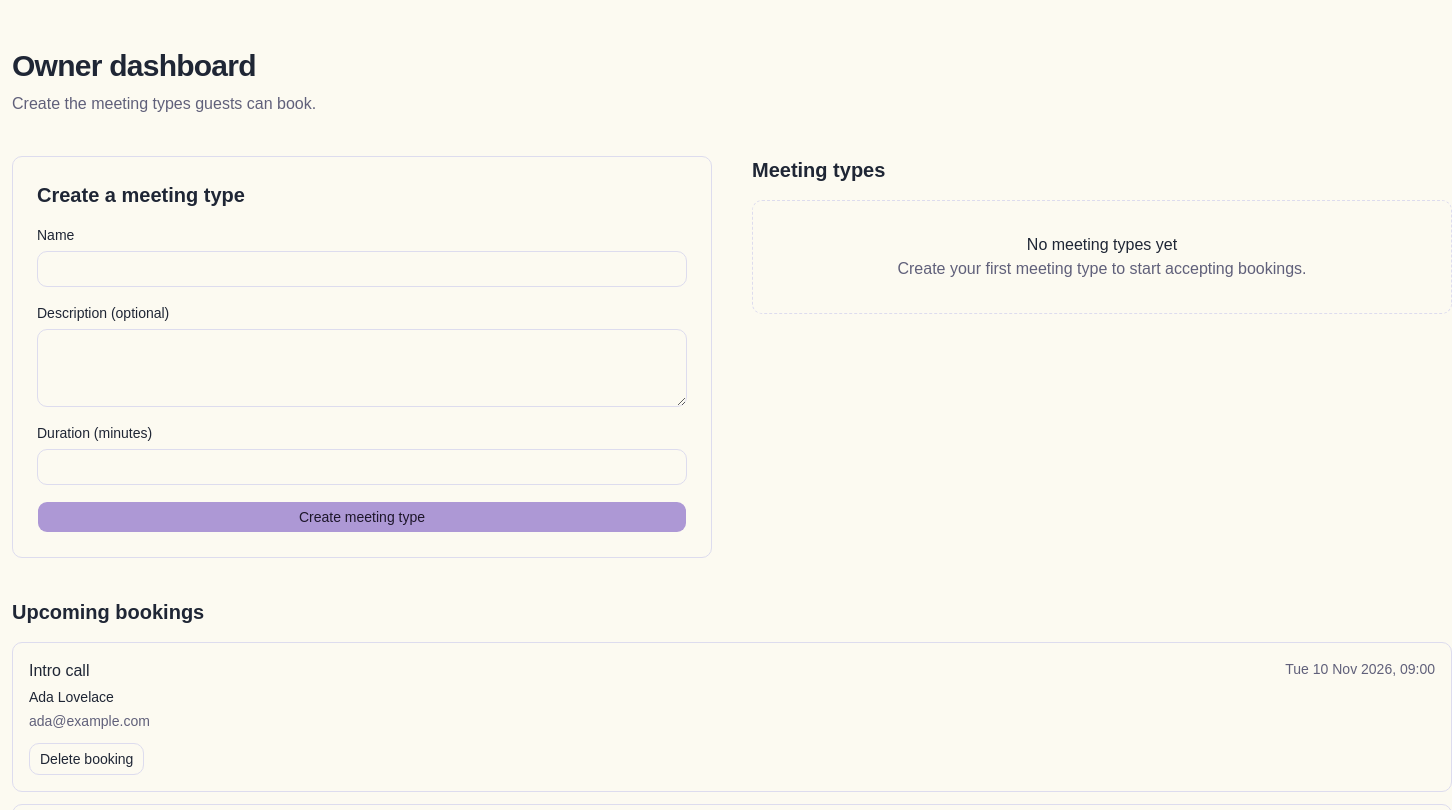
Test case: OwnerDashboardPage › deleting a booking › removes the row on 204 without refetching
The width and height of the screenshot is (1452, 810).
What coordinates should you click on to do the following:
click the button "Delete booking"
I would click on:
 (87, 759)
Its box is [29, 743, 144, 775].
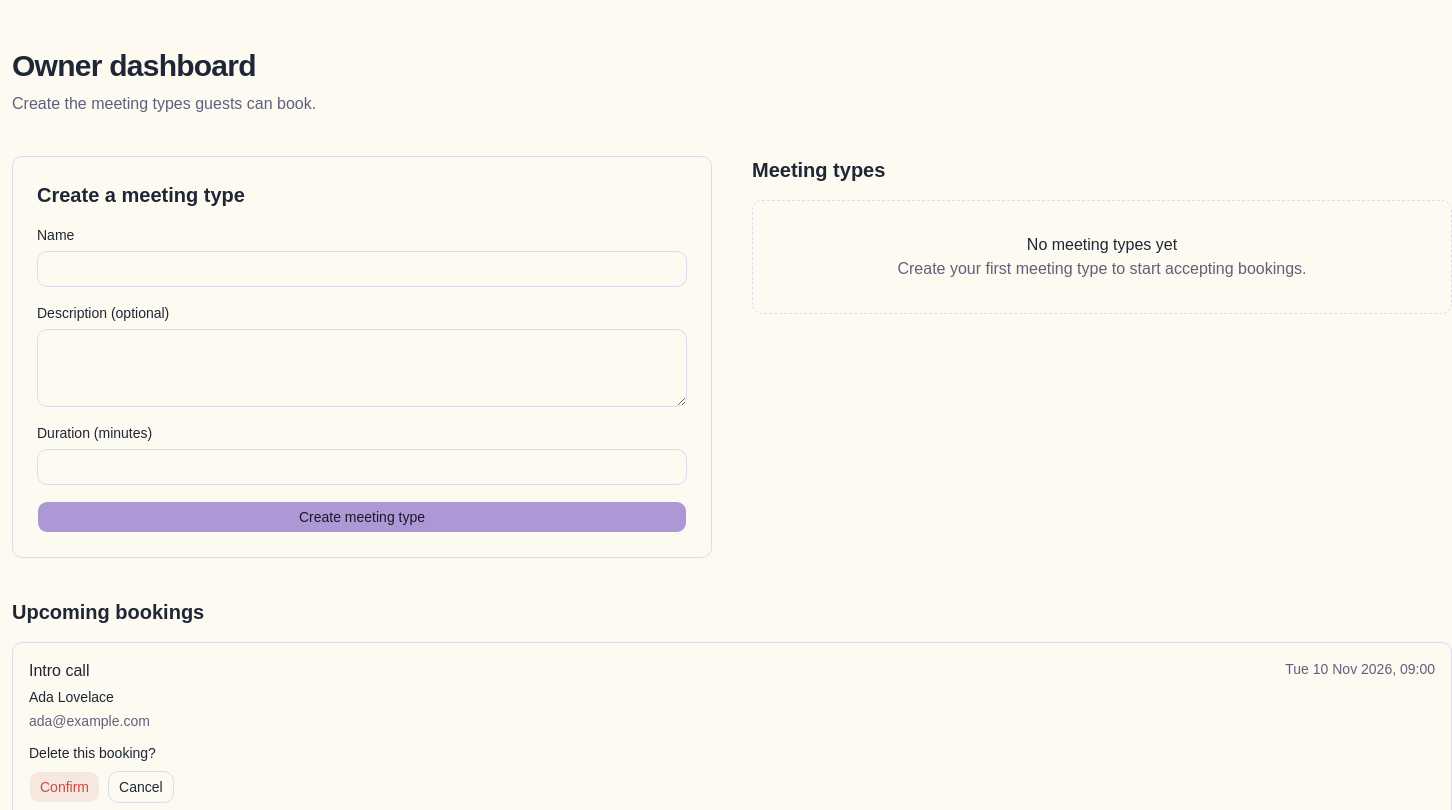
What coordinates should you click on to do the following:
click the button "Confirm"
I would click on:
 (64, 787)
Its box is [29, 771, 100, 803].
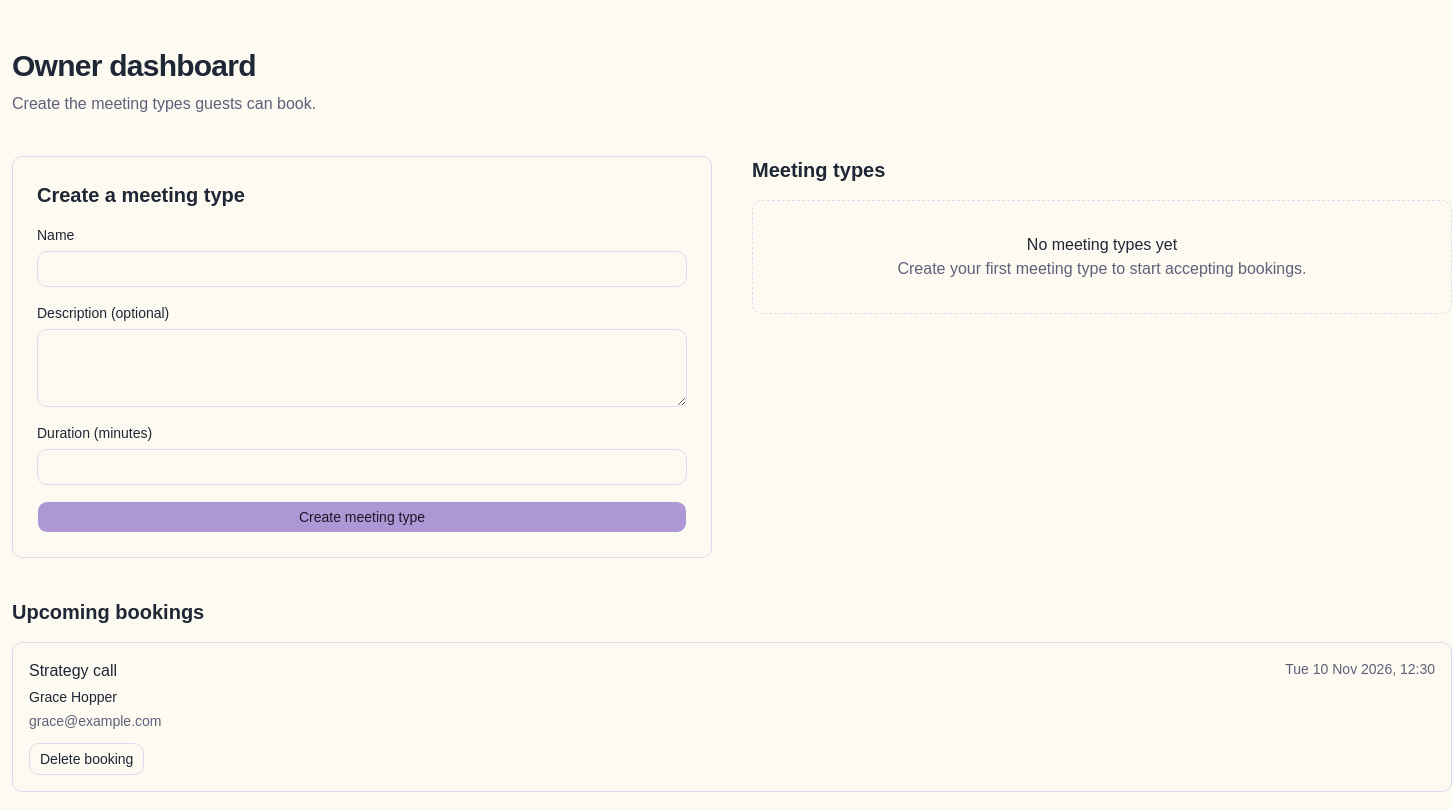
Expected: the text "Grace Hopper" is shown, [29, 689, 117, 705]
Now the text "Ada Lovelace" is gone
